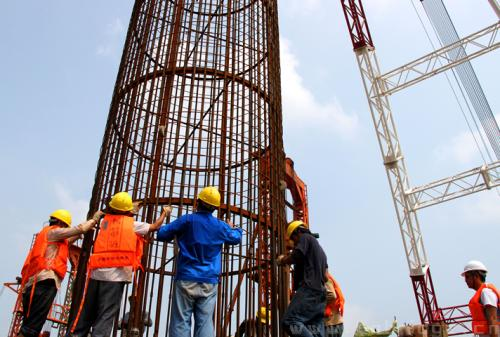gloves: (93, 209, 105, 222), (163, 205, 172, 217)
hard-hat: (196, 185, 221, 207), (109, 192, 134, 212), (459, 260, 488, 277), (286, 220, 308, 240), (49, 208, 72, 226)
person: (63, 191, 172, 337), (155, 185, 243, 336), (11, 208, 105, 337), (275, 219, 333, 336), (459, 260, 500, 337)
vest: (98, 211, 147, 270), (23, 224, 65, 280), (466, 280, 499, 330)
